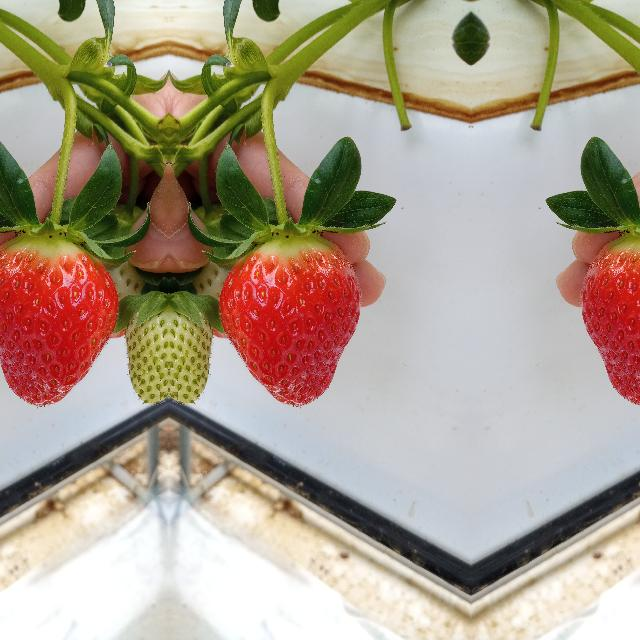Health_100: (218, 235, 360, 410), (0, 234, 118, 409), (581, 234, 640, 409)
Health_25: (168, 276, 212, 408), (124, 276, 168, 408)
